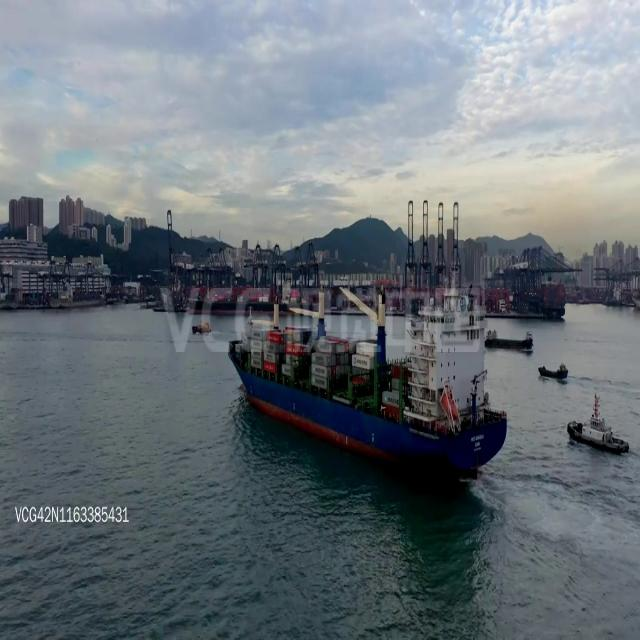cargoship: (234, 268, 509, 481)
fishing boat: (568, 397, 631, 459), (485, 320, 534, 355), (537, 355, 569, 385), (191, 318, 213, 338)
